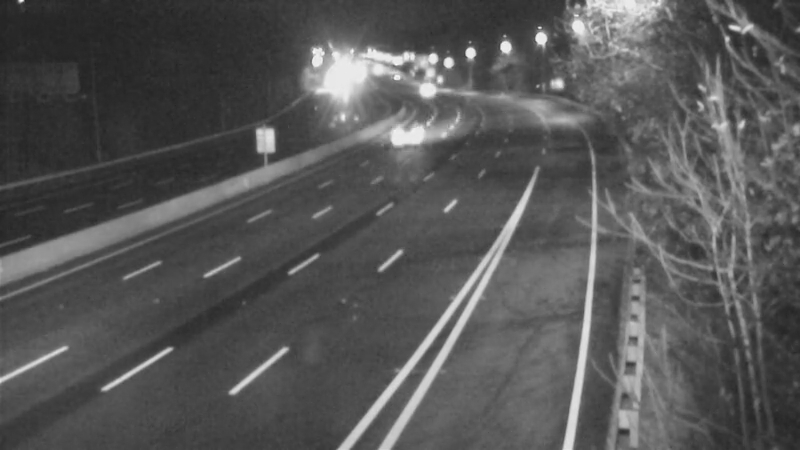vehicle: (370, 53, 420, 103), (400, 67, 450, 117), (384, 108, 434, 158)
